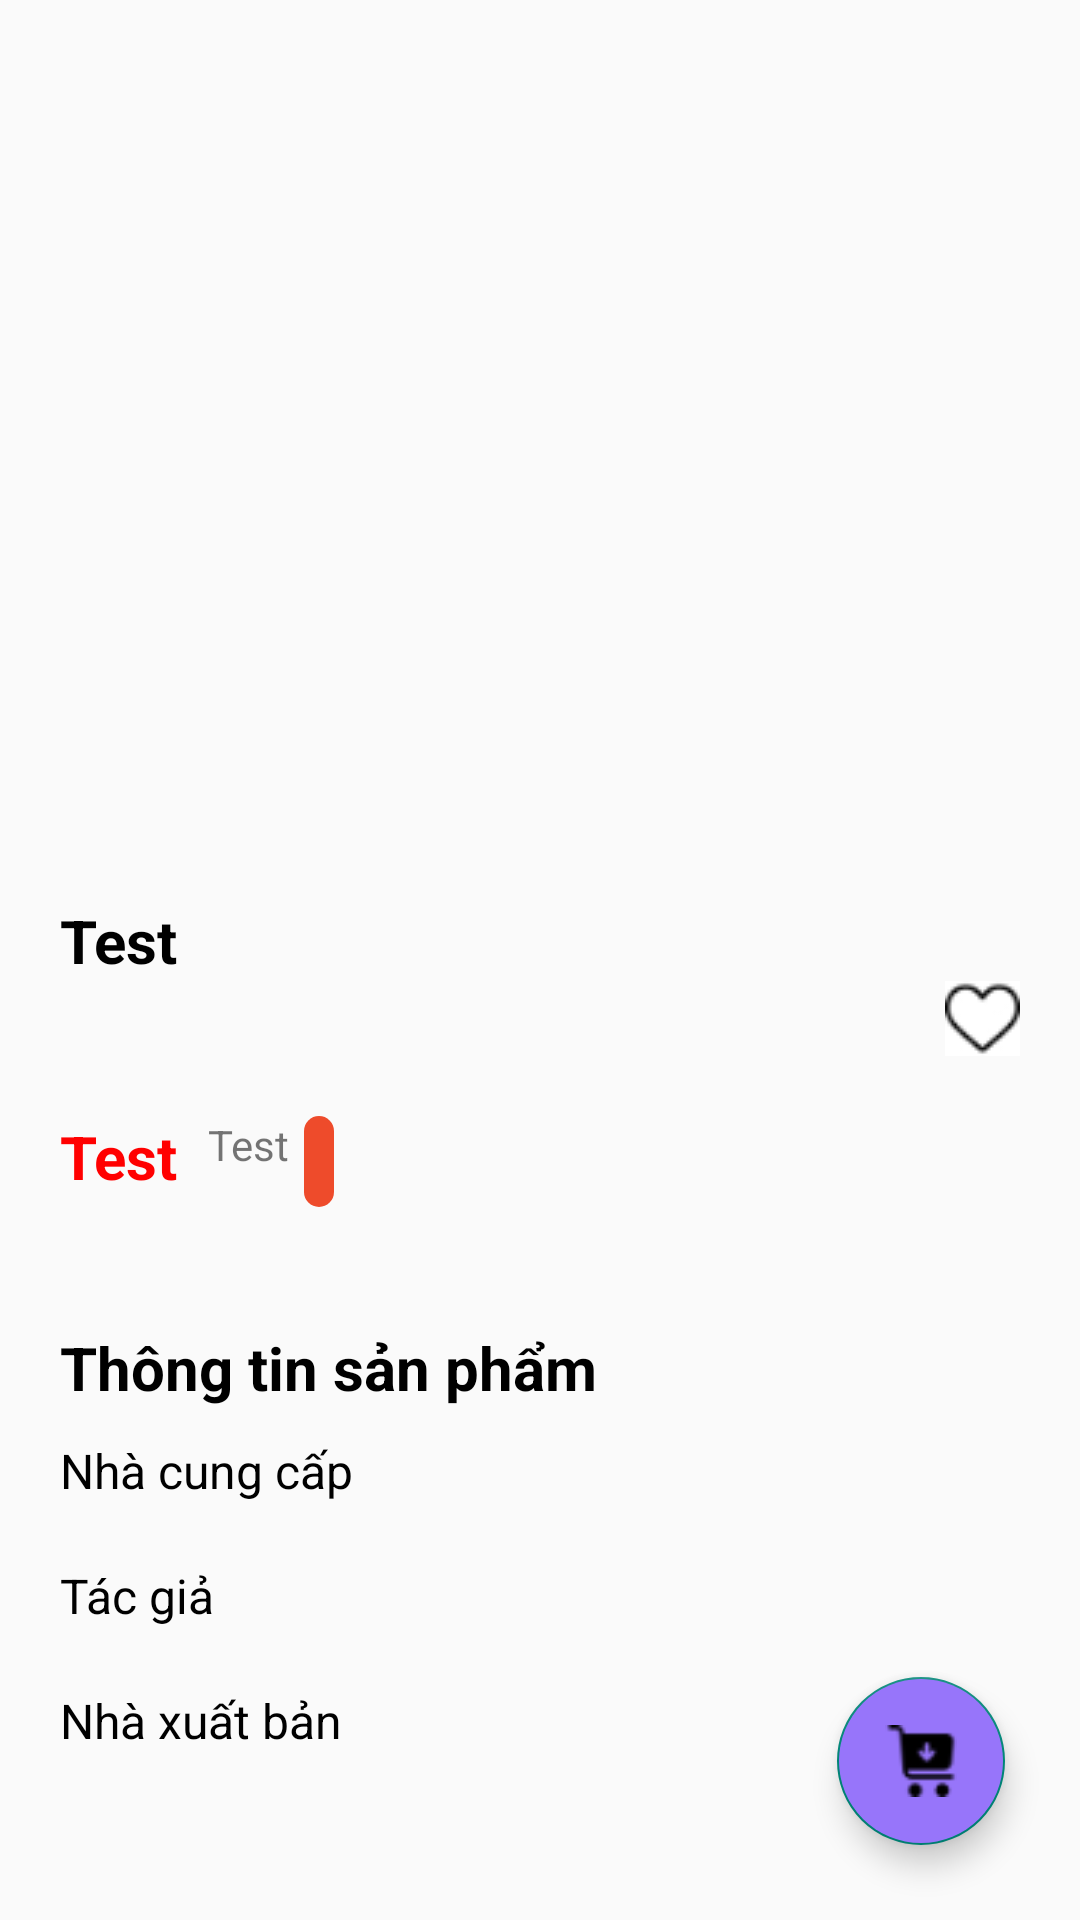

Point at icon controls on the screen. Image size 1080 × 1920, points as (x=x, y=y).
heart: (x=982, y=1018)
Thêm vào giỏ hàng: (x=921, y=1761)
